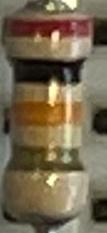Black: (10, 59, 85, 83)
Orange: (13, 103, 82, 125)
Red: (3, 19, 93, 38)
Side-Gold: (5, 144, 87, 172)
